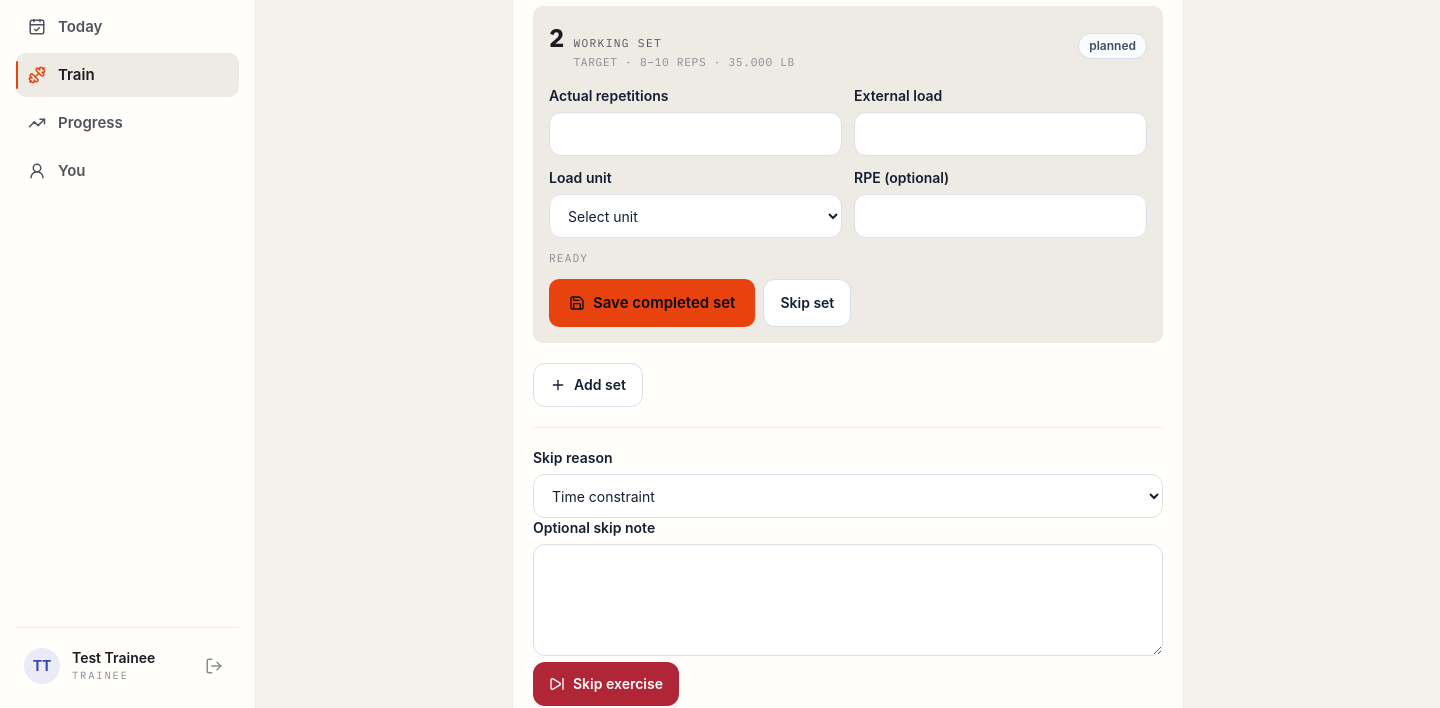
Scenario: skips work, intentionally ends incomplete, and renders the terminal summary
This screenshot has width=1440, height=708.
(page scrolled)
Click the button "Skip set" below "planned" at (807, 303), box [763,279,851,327]
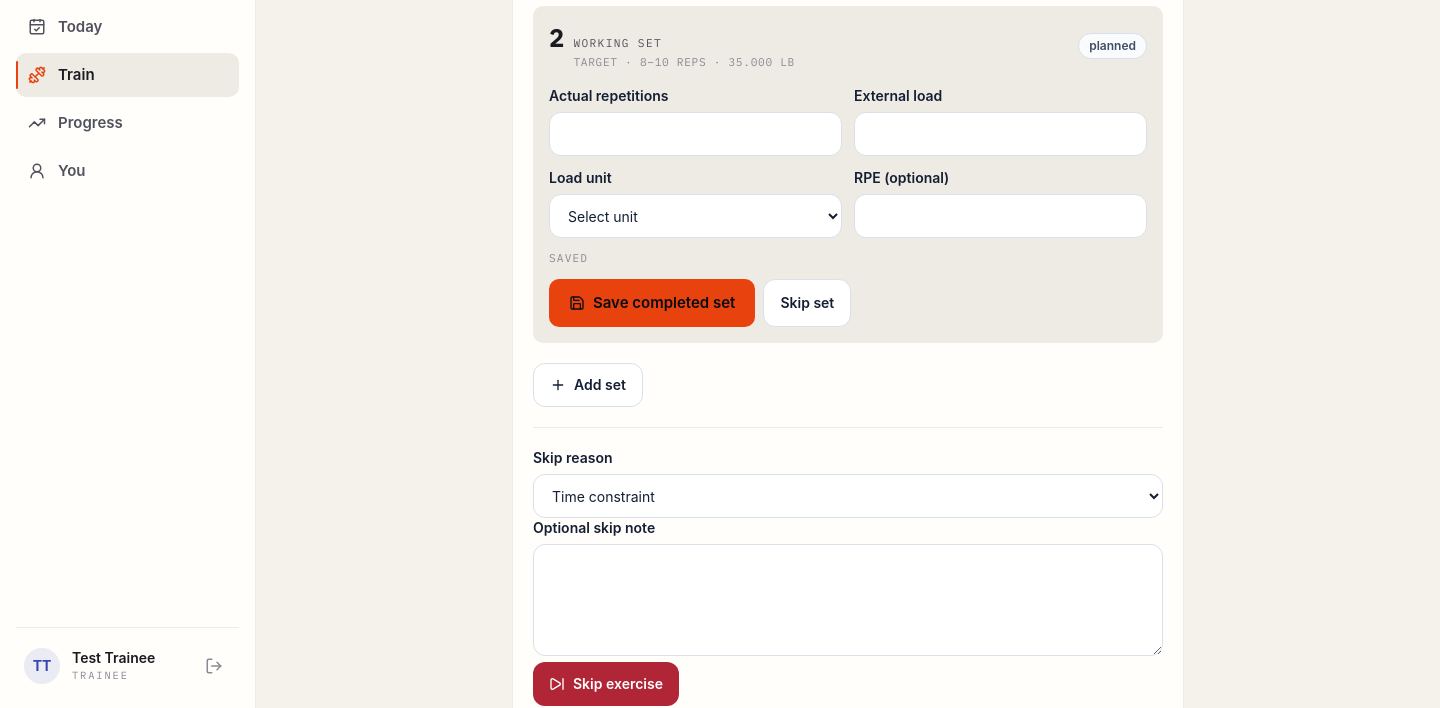
Click the button "Skip exercise" at (606, 684), box [533,662,679,706]
(page scrolled)
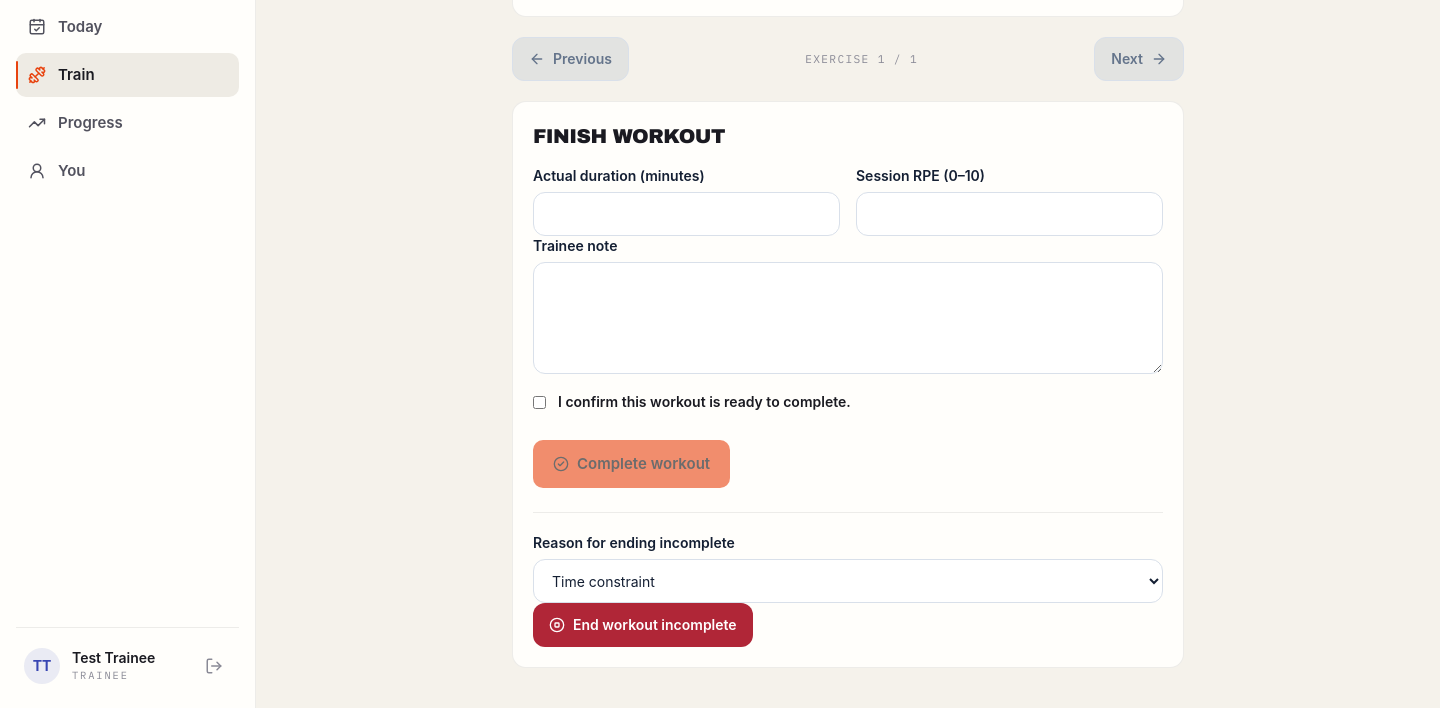
Click the button "End workout incomplete" at (643, 625), box [533,603,753,647]
(page scrolled)
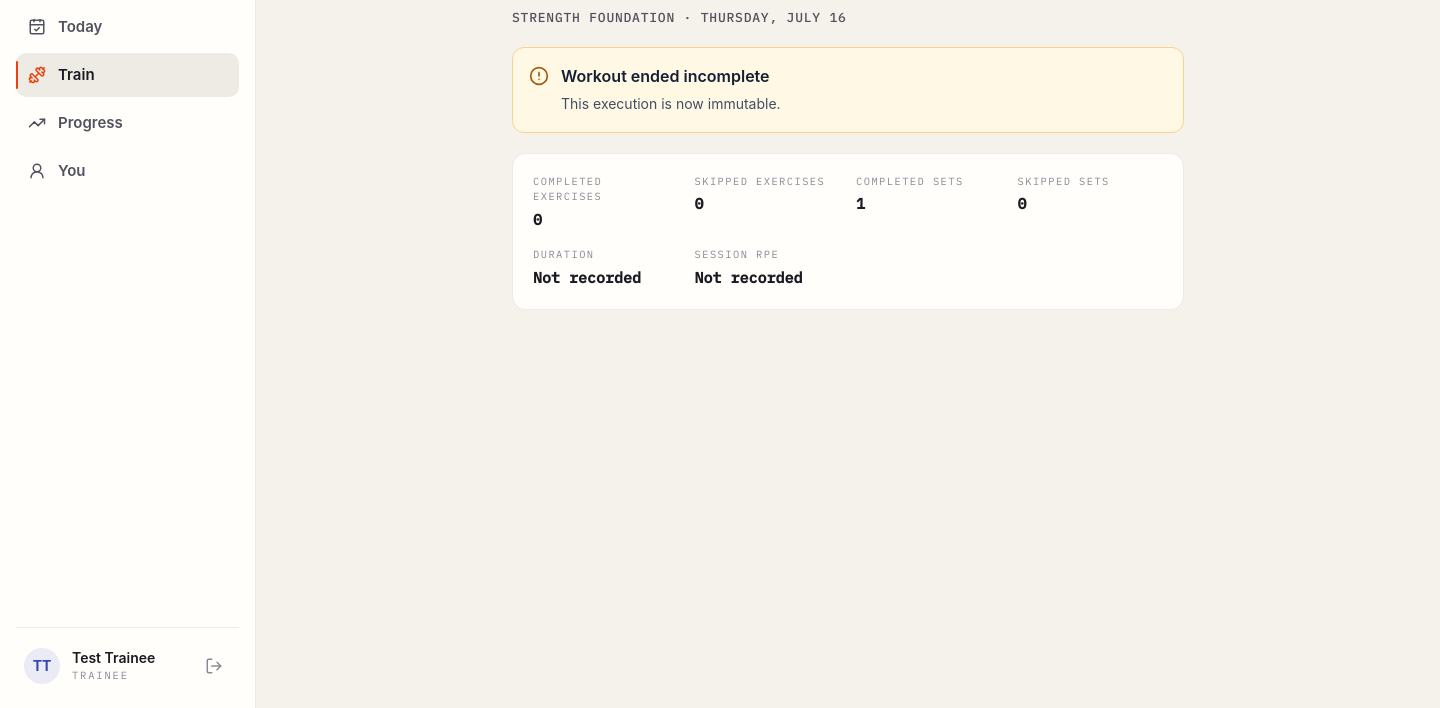
Result: the text "Workout ended incomplete" is shown at [561,66,770,86]
